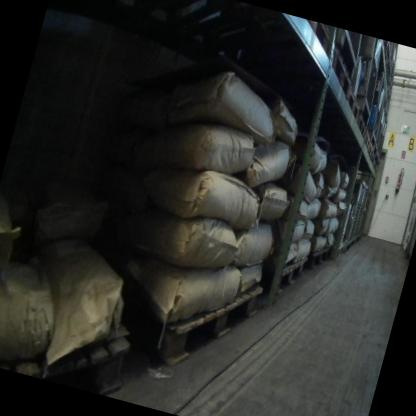pallet: (108, 246, 274, 407), (59, 293, 150, 401), (256, 241, 310, 303), (322, 52, 360, 102), (293, 235, 335, 280), (296, 20, 336, 58), (342, 85, 366, 124), (322, 237, 343, 269), (351, 108, 371, 141), (358, 129, 373, 152), (381, 61, 394, 81), (365, 141, 375, 161), (384, 80, 393, 99), (368, 149, 376, 166), (370, 163, 379, 173)
stillage: (345, 34, 390, 110), (360, 66, 394, 147), (326, 28, 370, 72), (370, 88, 394, 153), (372, 104, 392, 159), (374, 113, 393, 167), (387, 44, 404, 77), (380, 42, 399, 66)
